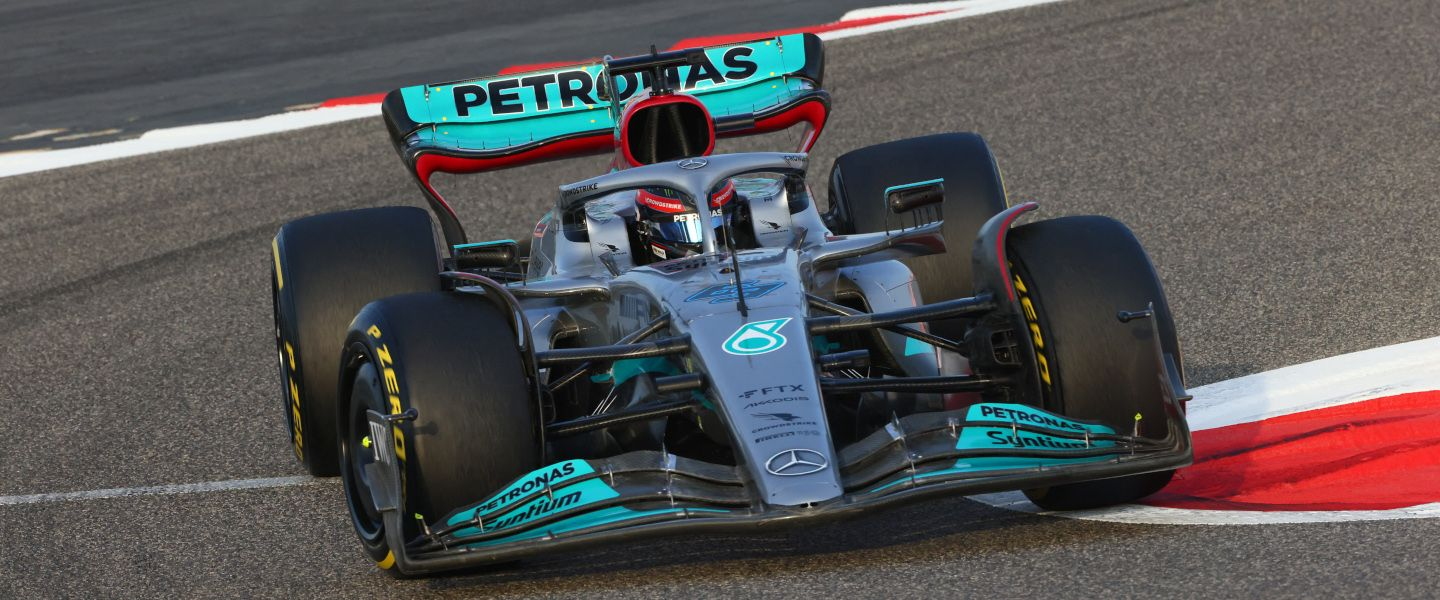Bobsleigh: (274, 42, 1176, 556)
